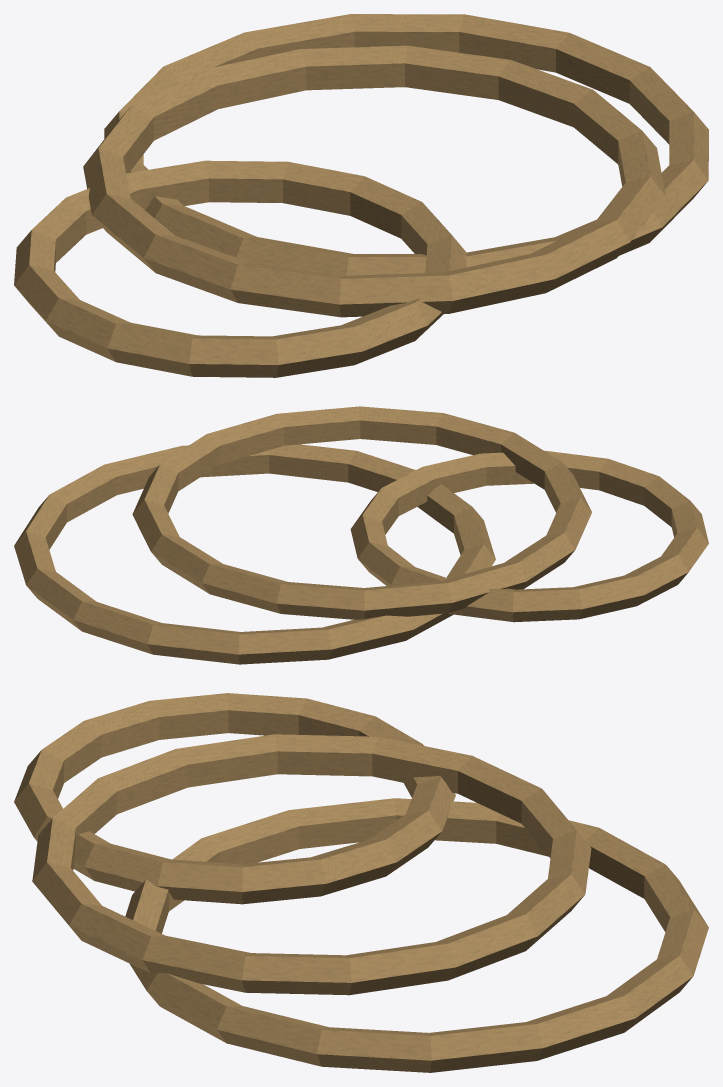
The model's file is en-004_rope_debris_set__small.obj.
3 views of the same model, one above another, from view 1: azimuth 30°, elevation 25°; view 2: azimuth 150°, elevation 25°; view 3: azimuth 270°, elevation 25° (orthographic). The views are drawn at different scales.
Parts seen in each view (by area): view 1: en-004_rope_debris_set__small; view 2: en-004_rope_debris_set__small; view 3: en-004_rope_debris_set__small.
Boxes of the visible parts, x1,y1,x2,y2 form: en-004_rope_debris_set__small: (14,14,708,377); en-004_rope_debris_set__small: (14,406,708,664); en-004_rope_debris_set__small: (14,693,708,1072).
Size of the model in its own units: 0.937 by 0.0876 by 0.8098.
1 material, 1 textured.
